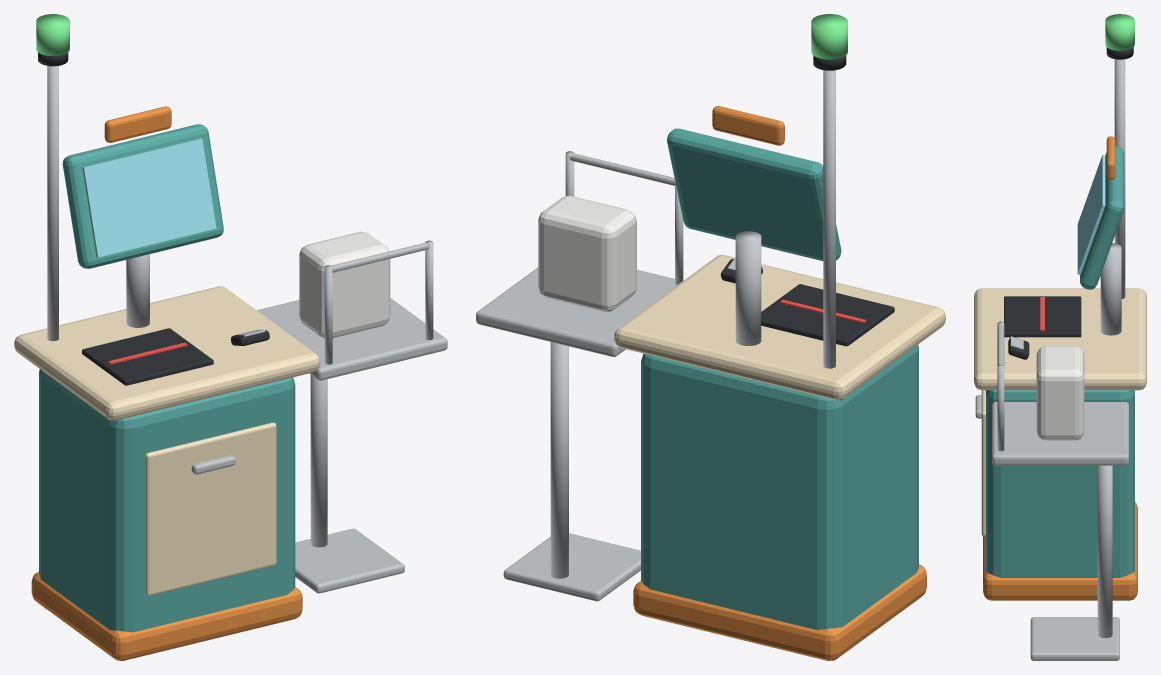
File: SelfCheckout.fbx
3 renders of one model, left to right at view 1: azimuth 30°, elevation 25°; view 2: azimuth 150°, elevation 25°; view 3: azimuth 270°, elevation 25°, orthographic. The views are drawn at different scales.
Visible parts, largest first — view 1: SelfCheckout; view 2: SelfCheckout; view 3: SelfCheckout.
Boxes of the visible parts, x1,y1,x2,y2 form: SelfCheckout: (14,14,447,660); SelfCheckout: (476,14,945,660); SelfCheckout: (974,14,1146,660).
Size of the model in its own units: 118 by 190 by 58.
